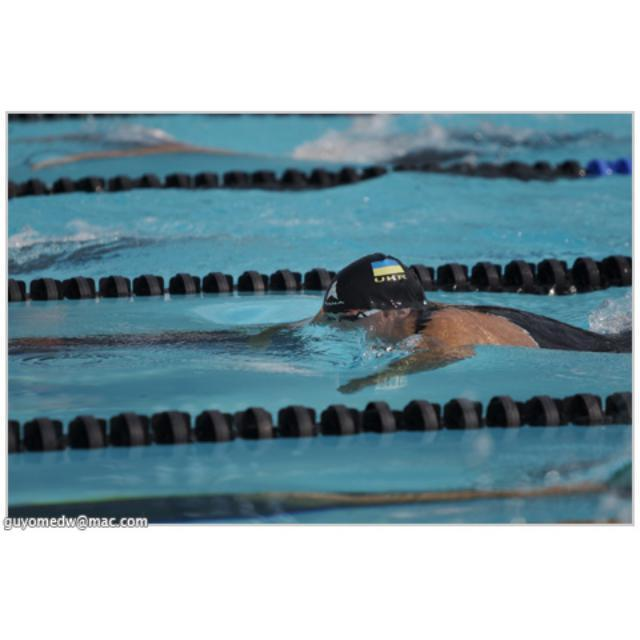human: (311, 247, 636, 385)
